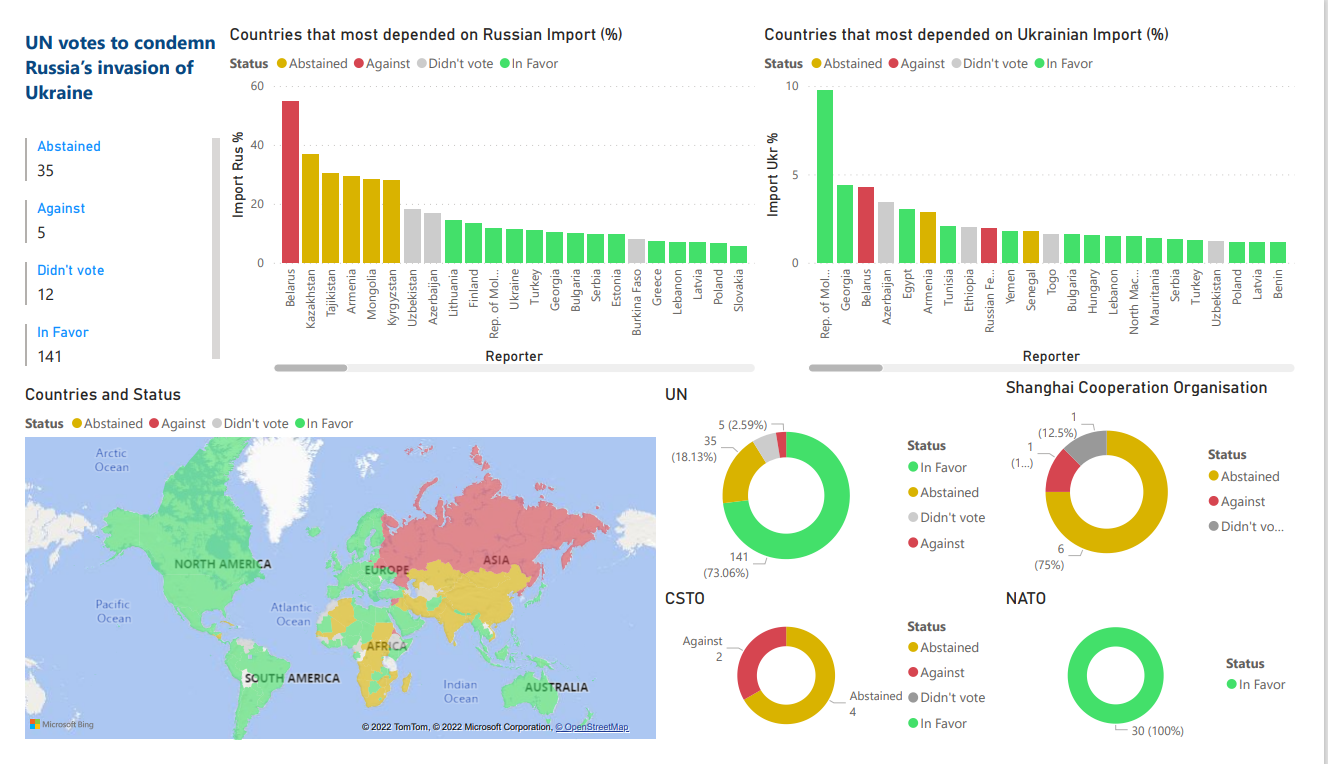

The dashboard page shown, as its layout file describes it:
{"tool":"powerbi","page":{"name":"Main","canvas":[1280,720],"ordinal":0},"visuals":[{"type":"donutChart","title":"Shanghai Cooperation Organisation","fields":{"Category":["countries.Status"],"Y":["CountNonNull(countries.Countries)"]},"box":[980.7,352.8,299.3,210.9],"z":0},{"type":"donutChart","title":"CSTO","fields":{"Y":["Sum(countries.In CSTO)"],"Category":["countries.Status"]},"box":[640.5,563.7,340.2,156.5],"z":1000},{"type":"multiRowCard","fields":{"Values":["countries.Status","CountNonNull(countries.Status)"]},"box":[0,108.9,205.1,243.9],"z":2000},{"type":"textbox","box":[0,0,205.1,108.9],"z":3000},{"type":"filledMap","fields":{"Series":["countries.Status"],"Category":["countries.Countries"]},"box":[0,359.6,640.5,359.6],"z":4000},{"type":"columnChart","title":"Countries that most depended on Ukrainian Import (%)","fields":{"Category":["trade.Reporter"],"Y":["Sum(trade.Import Ukr %)"],"Series":["countries.Status"]},"box":[739.6,0,540.4,352.8],"z":5000},{"type":"columnChart","title":"Countries that most depended on Russian Import (%)","fields":{"Category":["trade.Reporter"],"Y":["Sum(trade.Import Rus %)"],"Series":["countries.Status"]},"box":[205.1,0,534.5,352.8],"z":6000},{"type":"donutChart","title":"UN","fields":{"Category":["countries.Status"],"Y":["CountNonNull(countries.Countries)"]},"box":[640.5,359.6,340.2,204.1],"z":7000},{"type":"donutChart","title":"NATO","fields":{"Category":["countries.Status"],"Y":["CountNonNull(countries.Countries)"]},"box":[980.7,563.7,299.3,155.5],"z":8000}]}

Visuals, with their boxes in screenshot pixels (x1, y1, x2, y2), scaled from the page's 1280x720 canvas onto the 1328x764 screenshot:
"Shanghai Cooperation Organisation" donutChart: (x1=1017, y1=374, x2=1327, y2=598)
"CSTO" donutChart: (x1=665, y1=598, x2=1017, y2=763)
multiRowCard - countries.Status x CountNonNull(countries.Status): (x1=0, y1=116, x2=213, y2=374)
textbox: (x1=0, y1=0, x2=213, y2=116)
filledMap - countries.Status x countries.Countries: (x1=0, y1=382, x2=665, y2=763)
"Countries that most depended on Ukrainian Import (%)" columnChart: (x1=767, y1=0, x2=1327, y2=374)
"Countries that most depended on Russian Import (%)" columnChart: (x1=213, y1=0, x2=767, y2=374)
"UN" donutChart: (x1=665, y1=382, x2=1017, y2=598)
"NATO" donutChart: (x1=1017, y1=598, x2=1327, y2=763)
